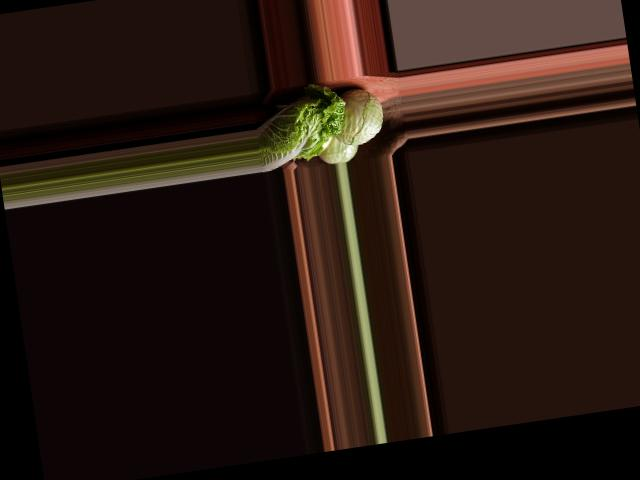lettuce: (251, 78, 352, 169)
